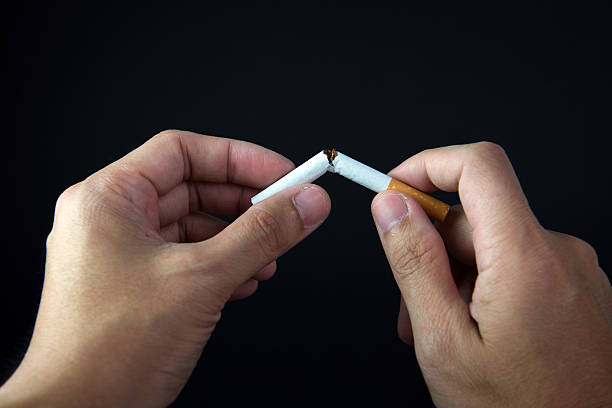cigarette: (250, 146, 451, 224)
